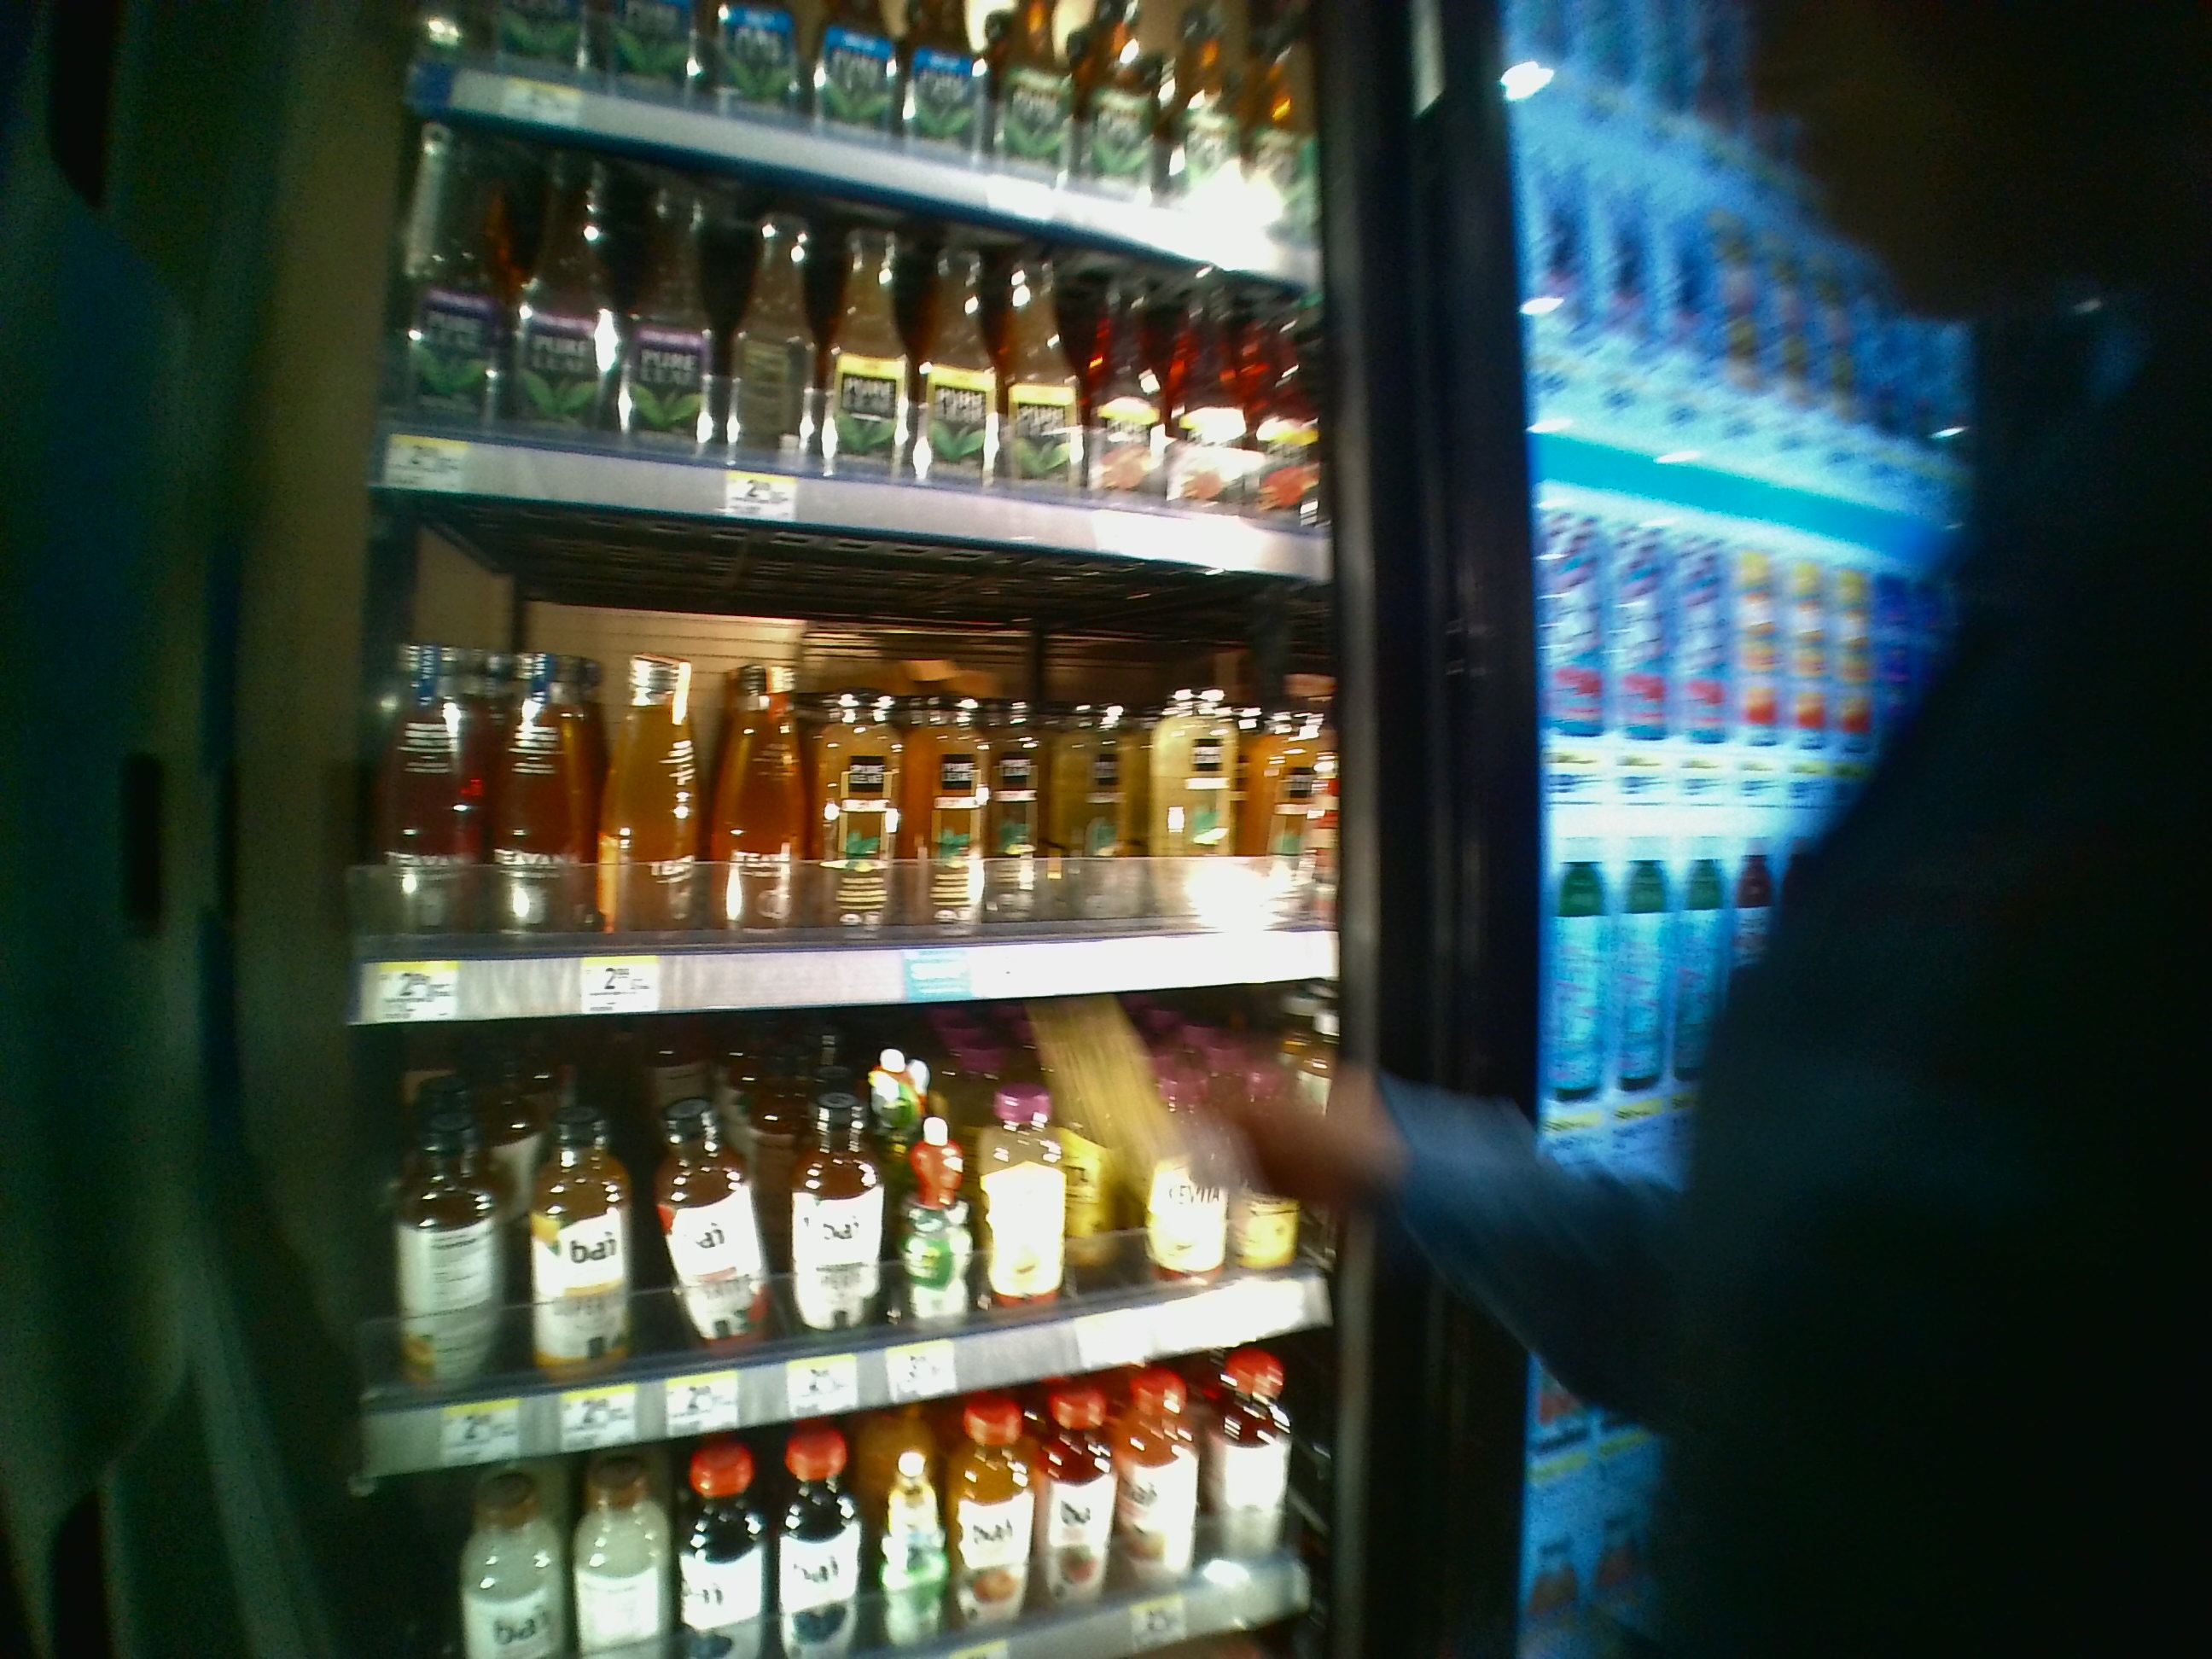shelf: (324, 572, 1334, 1035)
